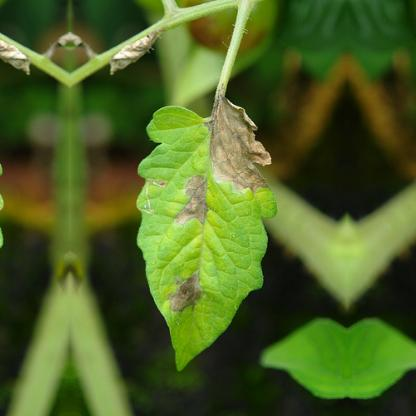Early-Blight: (197, 76, 288, 186), (83, 13, 169, 81), (162, 266, 228, 332), (0, 13, 55, 81), (169, 182, 229, 230)
